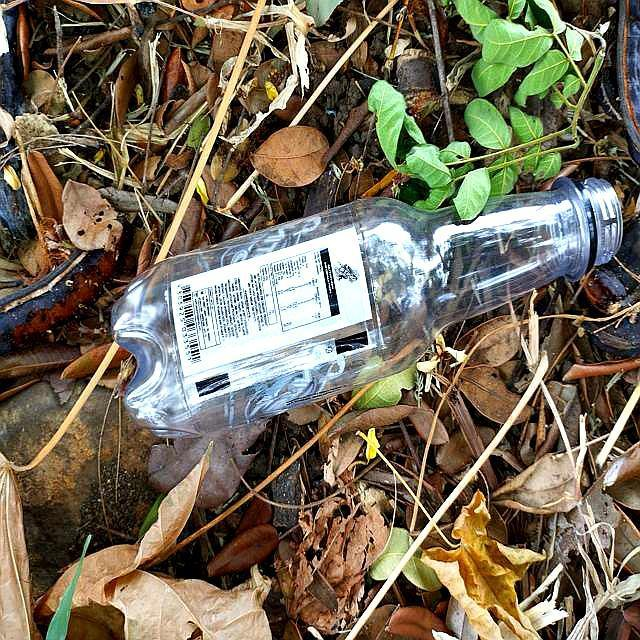Non-biodegradable: (108, 174, 625, 441)
